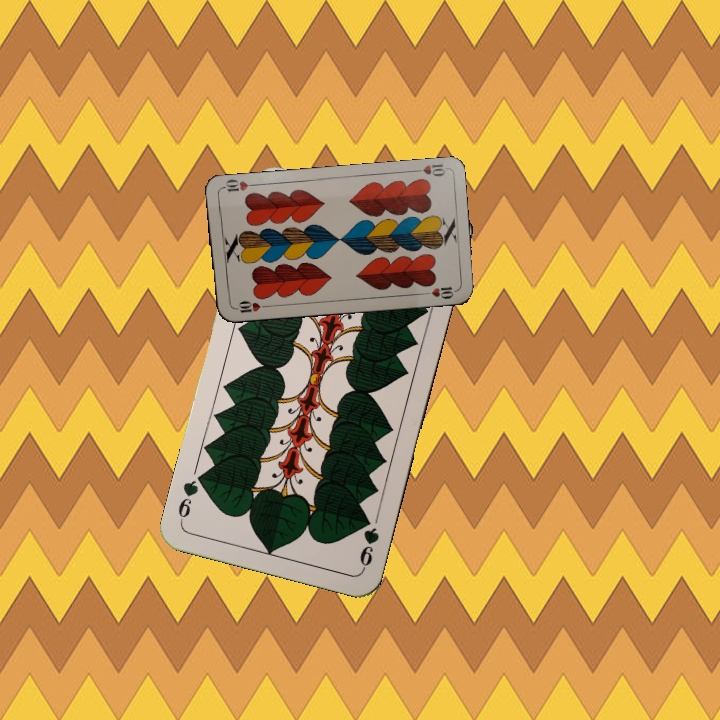G9: (355, 512, 382, 572)
H10: (408, 160, 448, 179), (230, 297, 270, 315)
